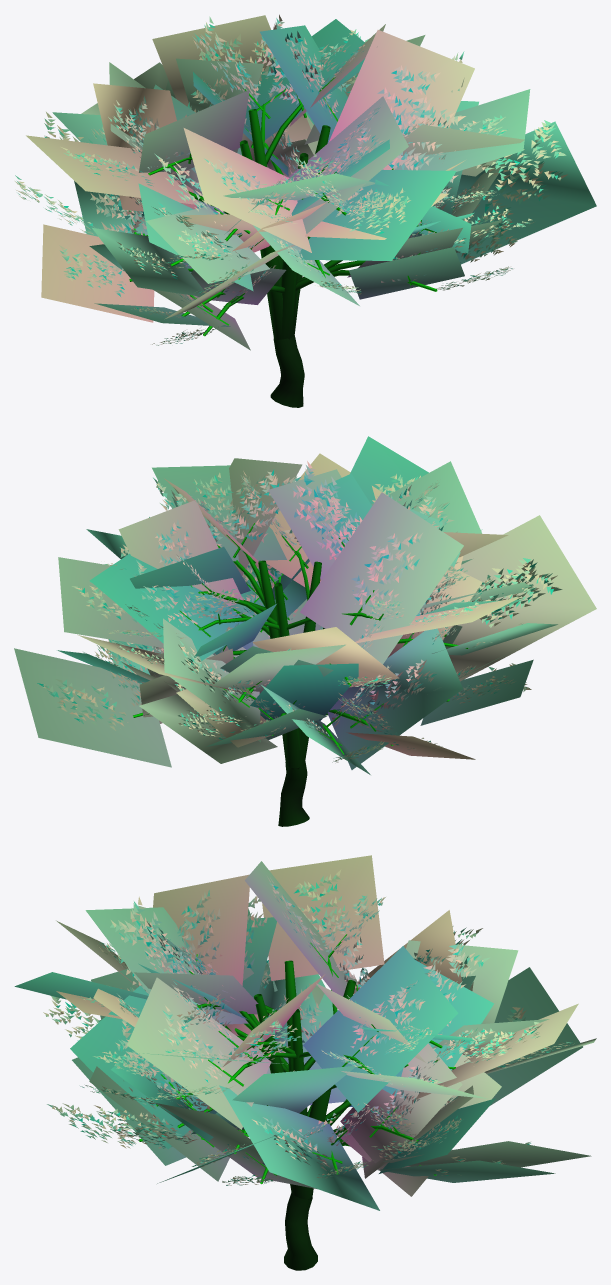
File: hill_c_3.glb
The picture shows the model from 3 angles, top to bottom: view 1: azimuth 30°, elevation 25°; view 2: azimuth 150°, elevation 25°; view 3: azimuth 270°, elevation 25°; orthographic projection. The views are drawn at different scales.
Visible parts, largest first — view 1: mid, near; view 2: mid, near; view 3: mid, near.
Part boxes in pixels (left/top/right/bottom): mid: left=26, top=15, right=596, bottom=350; near: left=15, top=14, right=567, bottom=407; mid: left=14, top=436, right=596, bottom=774; near: left=37, top=461, right=562, bottom=826; mid: left=14, top=855, right=596, bottom=1210; near: left=43, top=869, right=574, bottom=1270.
Size of the model in its own units: 6.06 by 4.33 by 6.5.
